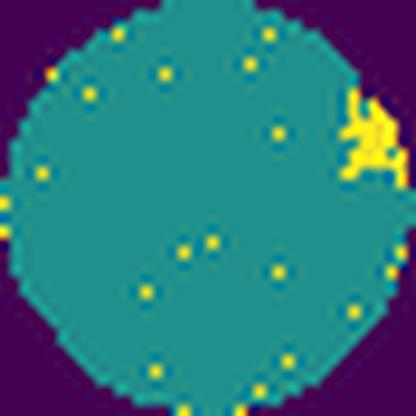Edge-Loc: (330, 80, 412, 186)
